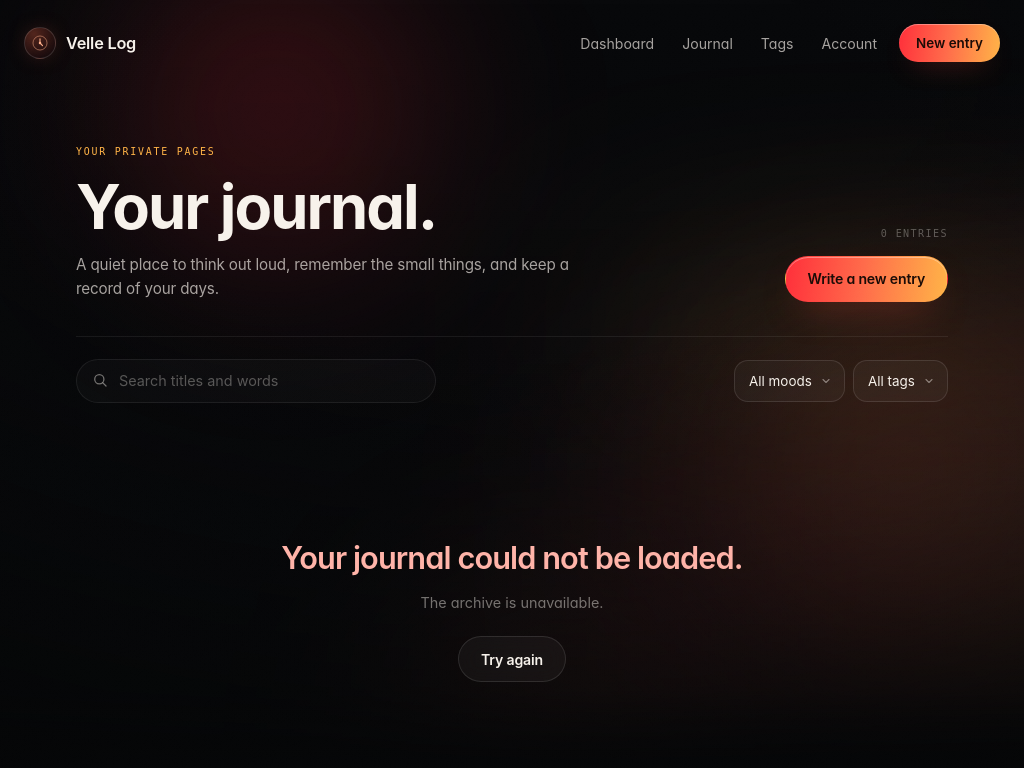
it: journal › shows an error state and retries loading the list
Expected: the heading "Your journal could not be loaded." is shown, top-left (281, 534), bottom-right (743, 581)
Expected: the text "The archive is unavailable." is shown, top-left (421, 591), bottom-right (604, 614)
Click the button "Try again" at (512, 659), box top-left (458, 636), bottom-right (566, 682)
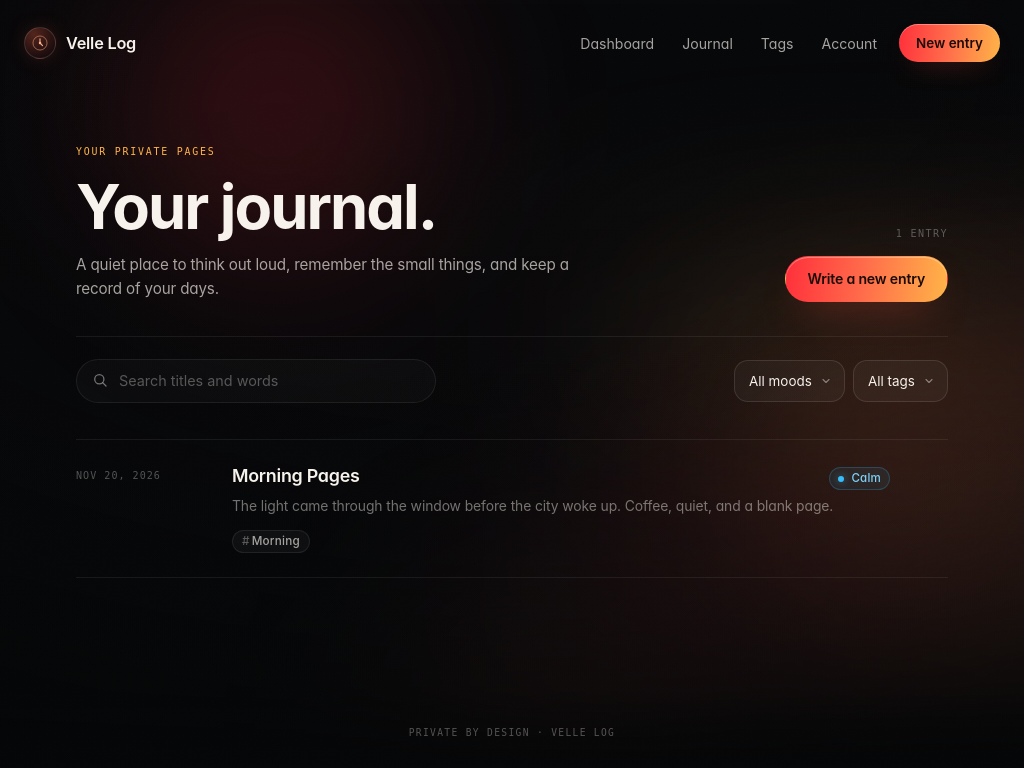
Expected: the heading "Morning Pages" is shown, top-left (232, 464), bottom-right (360, 487)
